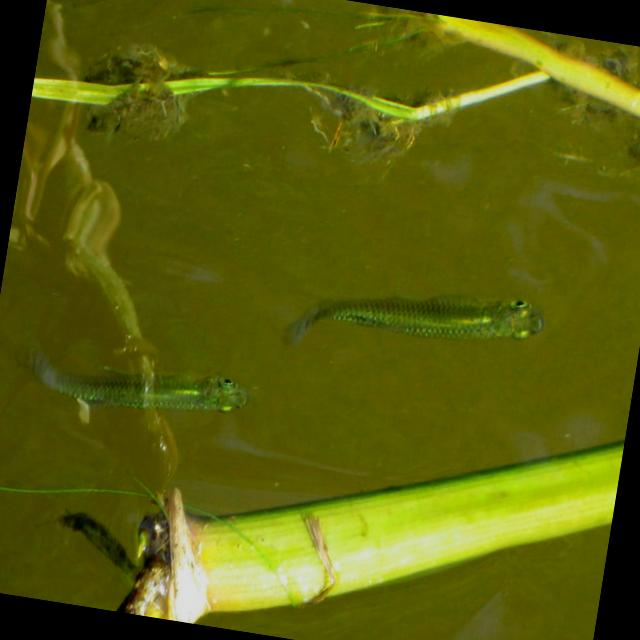Sivrisinek Baligi: (279, 260, 550, 390), (12, 330, 256, 438)
